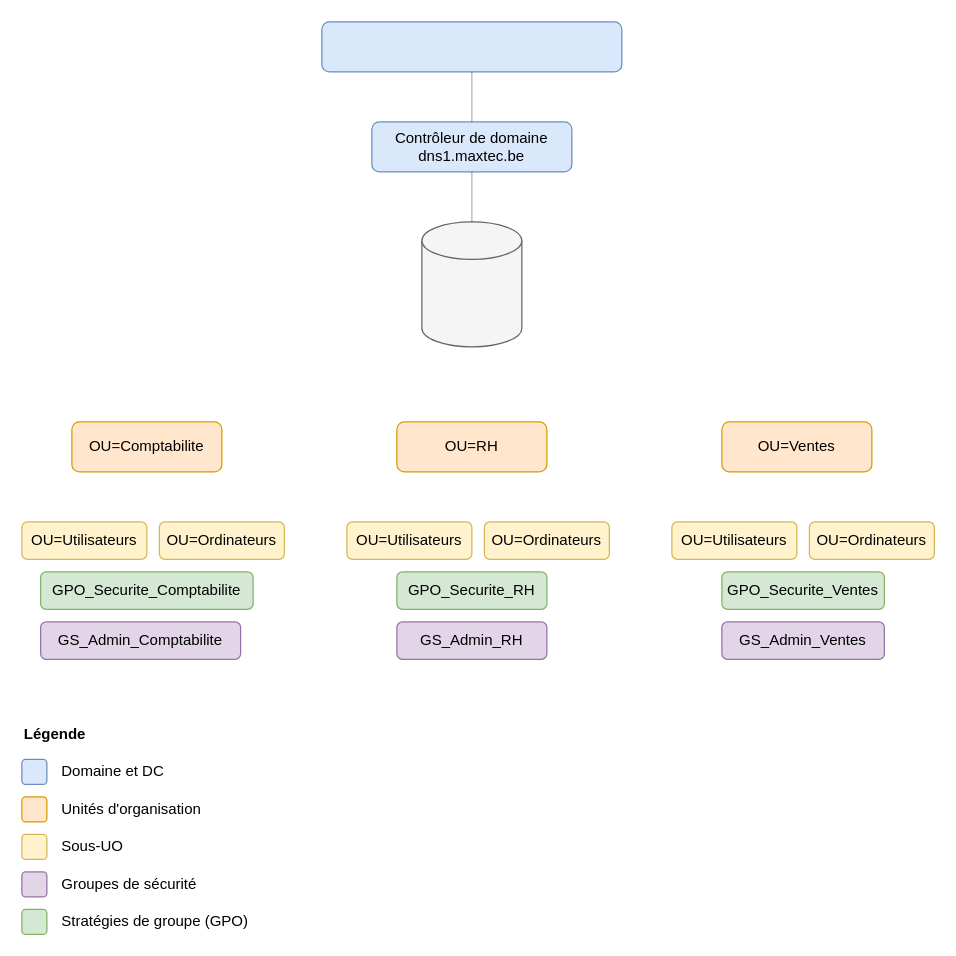
Image size: 956x956. Some labels were removed from this diagram. Here are the shapes that lost their labels. From the top down, the centre of each, then its label:
the point at 471,46: maxtec.be
the point at 471,284: Base de données AD DS
